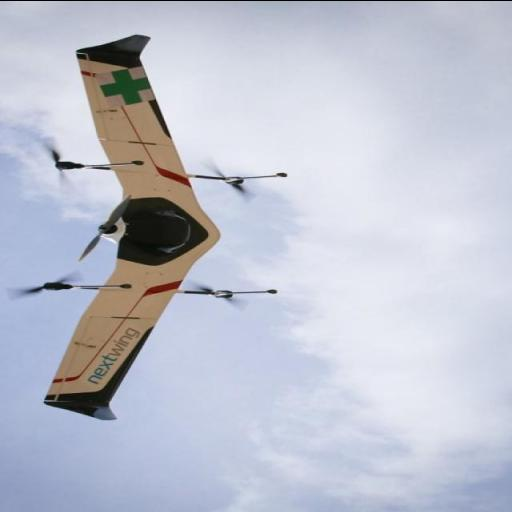uav: (8, 30, 310, 424)
